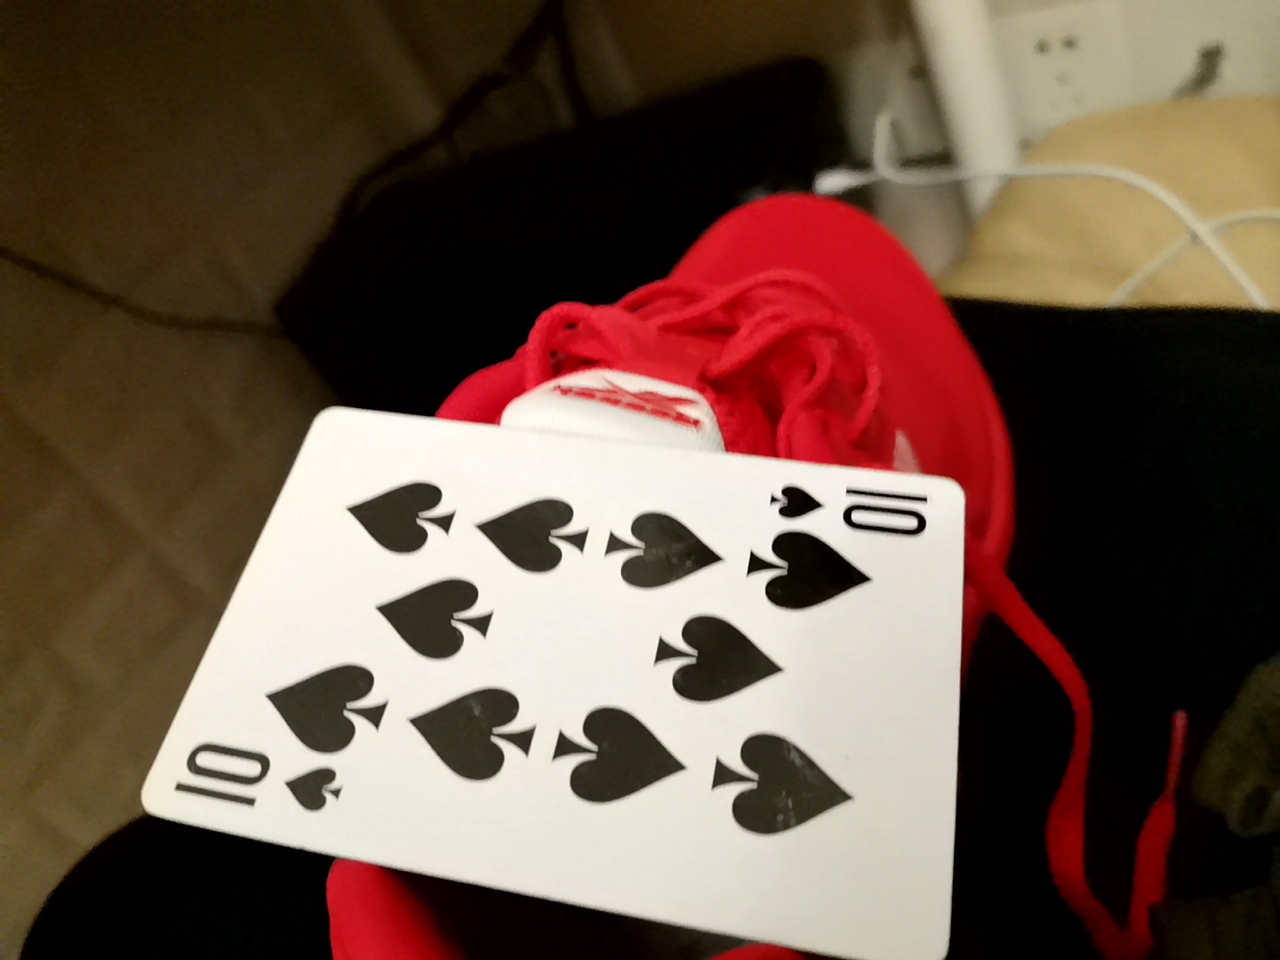ht 10: (145, 416, 974, 949)
